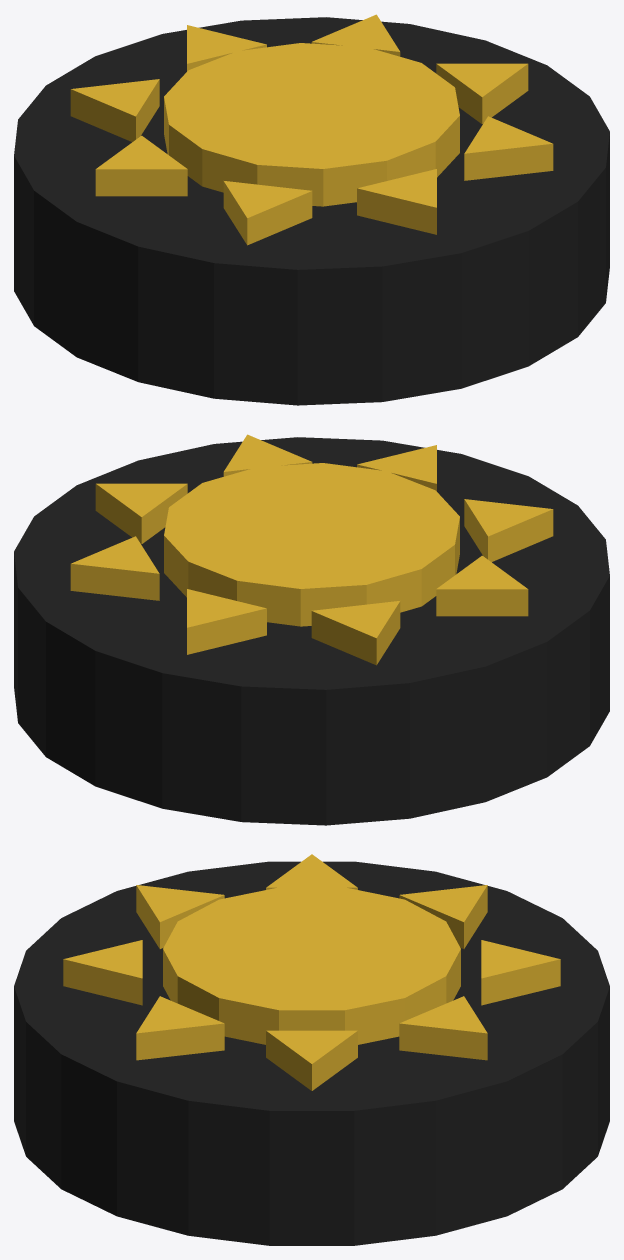
The model's file is light.glb.
3 renders of one model, top to bottom at view 1: azimuth 30°, elevation 25°; view 2: azimuth 150°, elevation 25°; view 3: azimuth 270°, elevation 25°, orthographic.
Parts seen in each view (by area): view 1: Cylinder, Cylinder.001, tri; view 2: Cylinder, Cylinder.001, tri; view 3: Cylinder, Cylinder.001, tri.
Boxes of the visible parts, x1,y1,x2,y2 form: Cylinder: (14, 17, 609, 405); Cylinder.001: (164, 43, 459, 206); tri: (70, 14, 553, 245); Cylinder: (14, 437, 609, 825); Cylinder.001: (164, 463, 459, 626); tri: (70, 434, 553, 665); Cylinder: (14, 861, 609, 1245); Cylinder.001: (163, 887, 460, 1044); tri: (63, 854, 560, 1090).
Size of the model in its own units: 0.198 by 0.0638 by 0.2.
